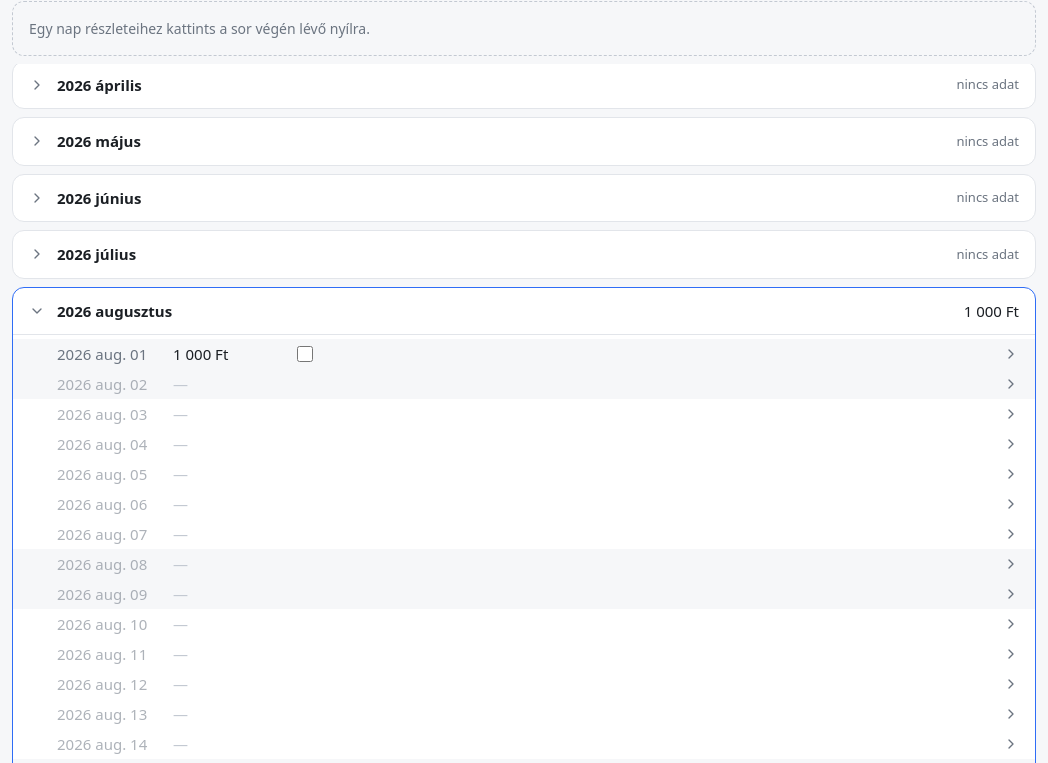
Scenario: HomeComponent › should not ask for details of a day the database has no row for
(page scrolled)
Click the 2nd button with class "details" at x=1011, y=384, box x1=999 y1=372 x2=1023 y2=396
(page scrolled)
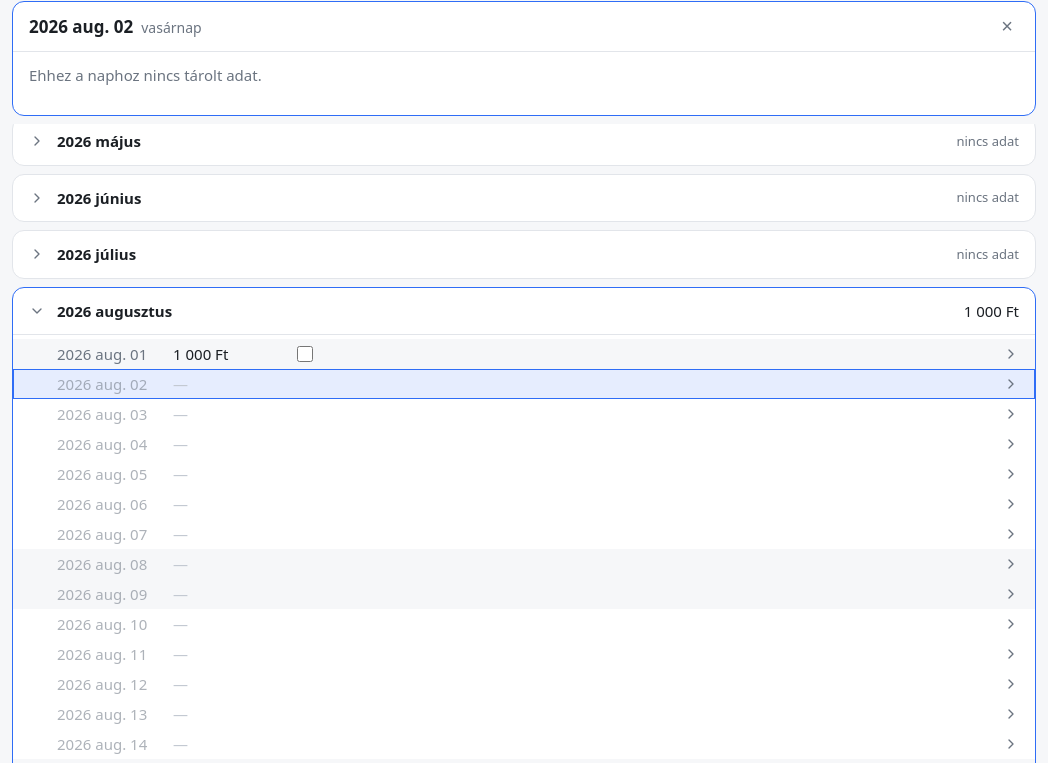
Check: the text with class "status" reads "Ehhez a naphoz nincs tárolt adat.", box x1=29 y1=64 x2=262 y2=84
